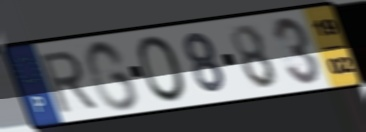3: (271, 14, 322, 88)
8: (231, 22, 280, 90), (181, 31, 228, 96)
G: (82, 38, 142, 113)
O: (135, 33, 191, 104)
R: (37, 48, 101, 116)
